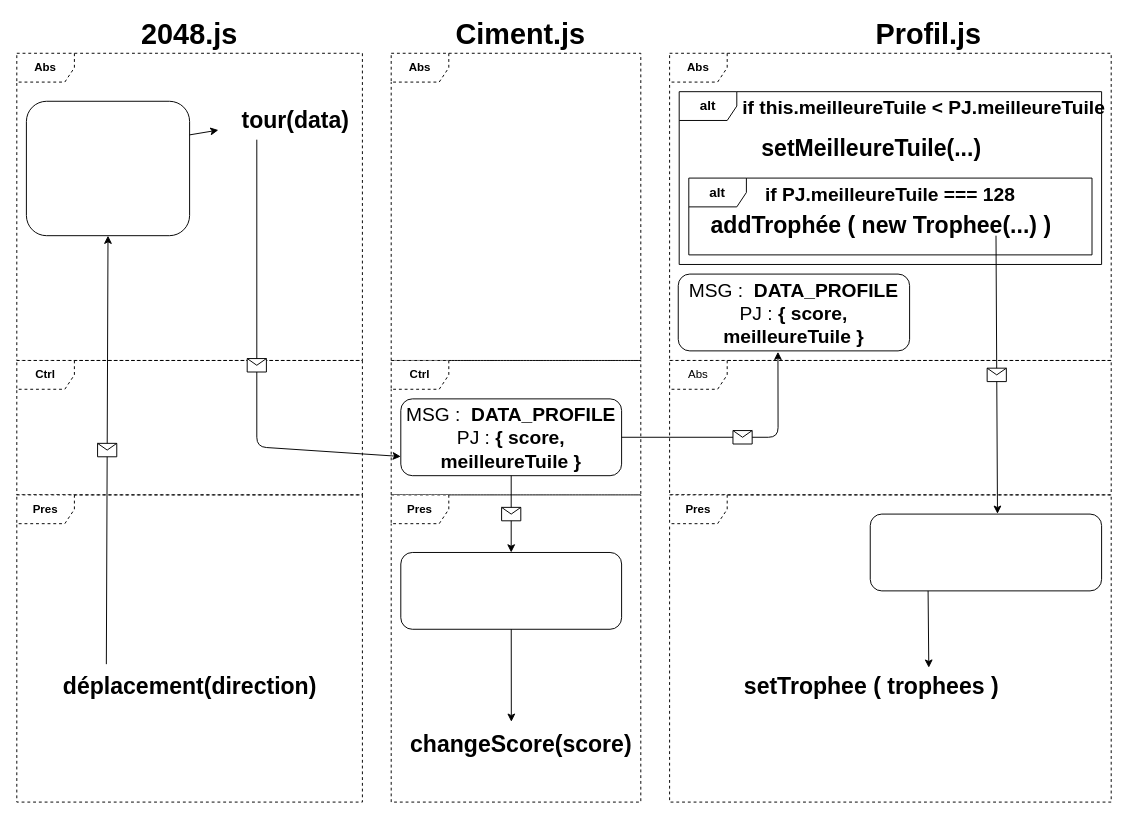
Some shapes in this 1128 by 819 pixel diagram are drawn without their labels. Here are the shapes that lost their labels. From the top down, the centre of each, then its label:
point 107,168: MSG : TOUR PJ : { nbTour, score, meilleureTuile }
point 985,552: MSG : TROPHEE PJ : trophees (array)
point 511,590: MSG : SCORE PJ : PJ . score
